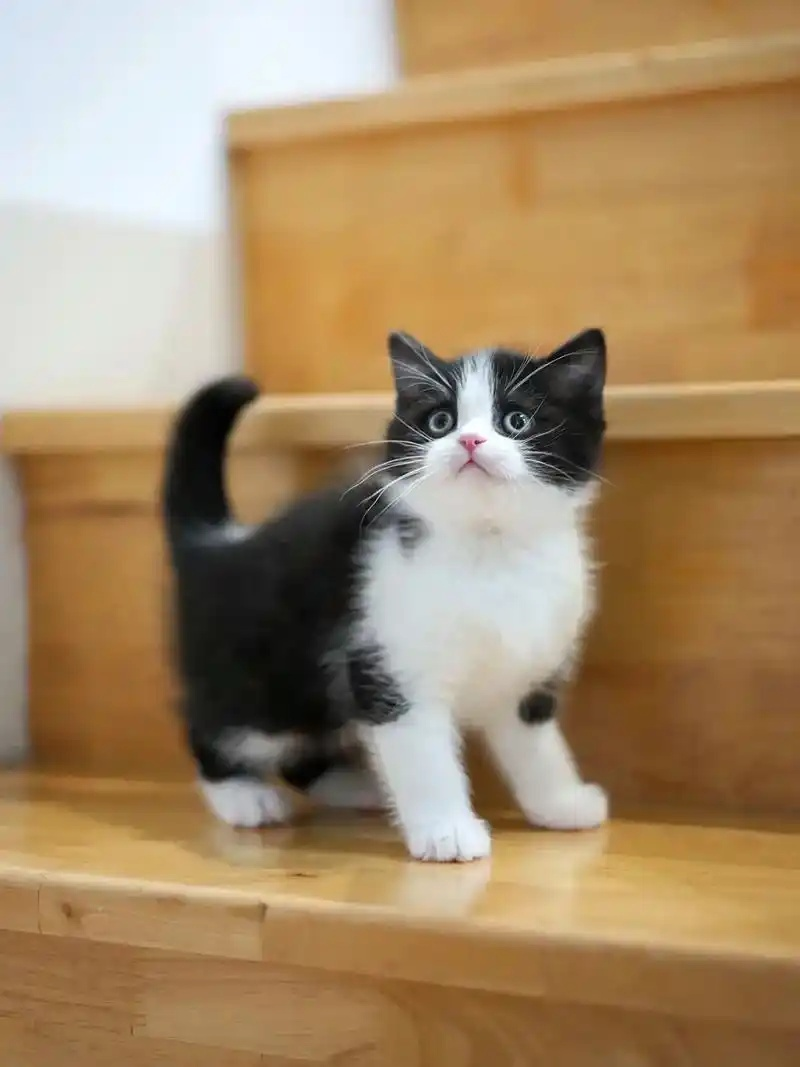奶牛猫: (355, 329, 606, 860)
